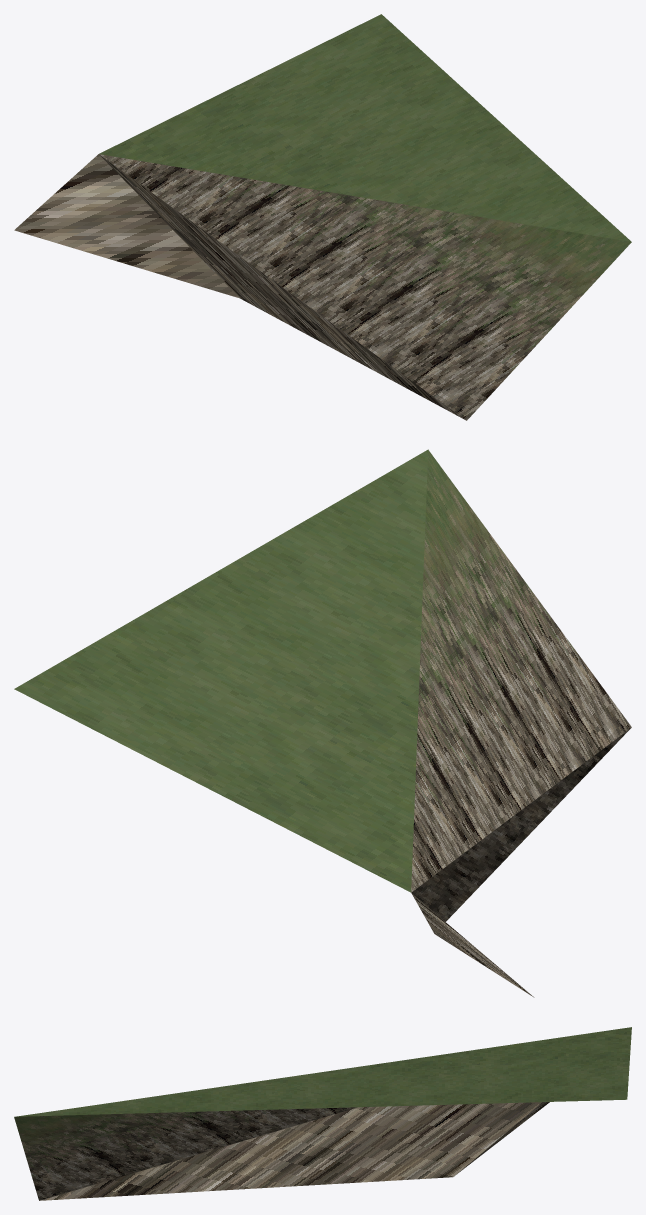
File: LODa_carisle_mid_landmass_02_02.fbx
3 views of the same model, one above another, from view 1: azimuth 30°, elevation 25°; view 2: azimuth 150°, elevation 25°; view 3: azimuth 270°, elevation 25° (orthographic). The views are drawn at different scales.
Parts seen in each view (by area): view 1: LODa_carisle_mid_landmass_02_02; view 2: LODa_carisle_mid_landmass_02_02; view 3: LODa_carisle_mid_landmass_02_02.
Part boxes in pixels (bbox=[...]): LODa_carisle_mid_landmass_02_02: bbox=[14, 14, 631, 420]; LODa_carisle_mid_landmass_02_02: bbox=[14, 449, 631, 997]; LODa_carisle_mid_landmass_02_02: bbox=[14, 1027, 631, 1200].
Size of the model in its own units: 11.01 by 14.17 by 5.01.
